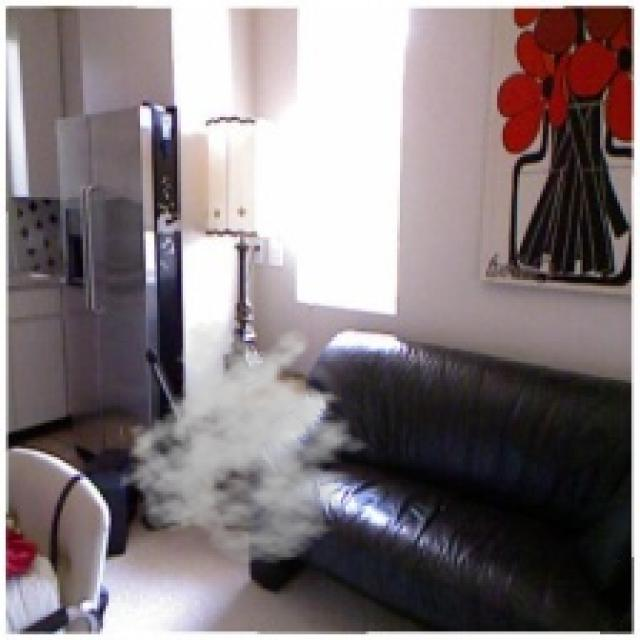smoke: (117, 317, 383, 566)
